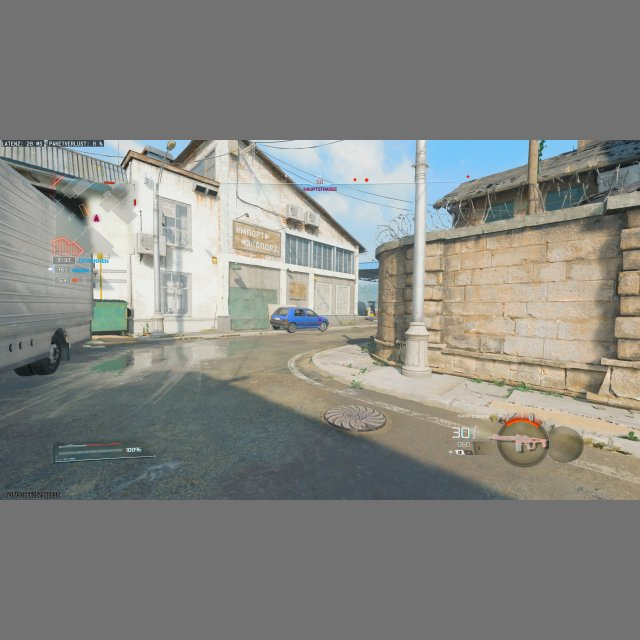player: (365, 300, 376, 317)
